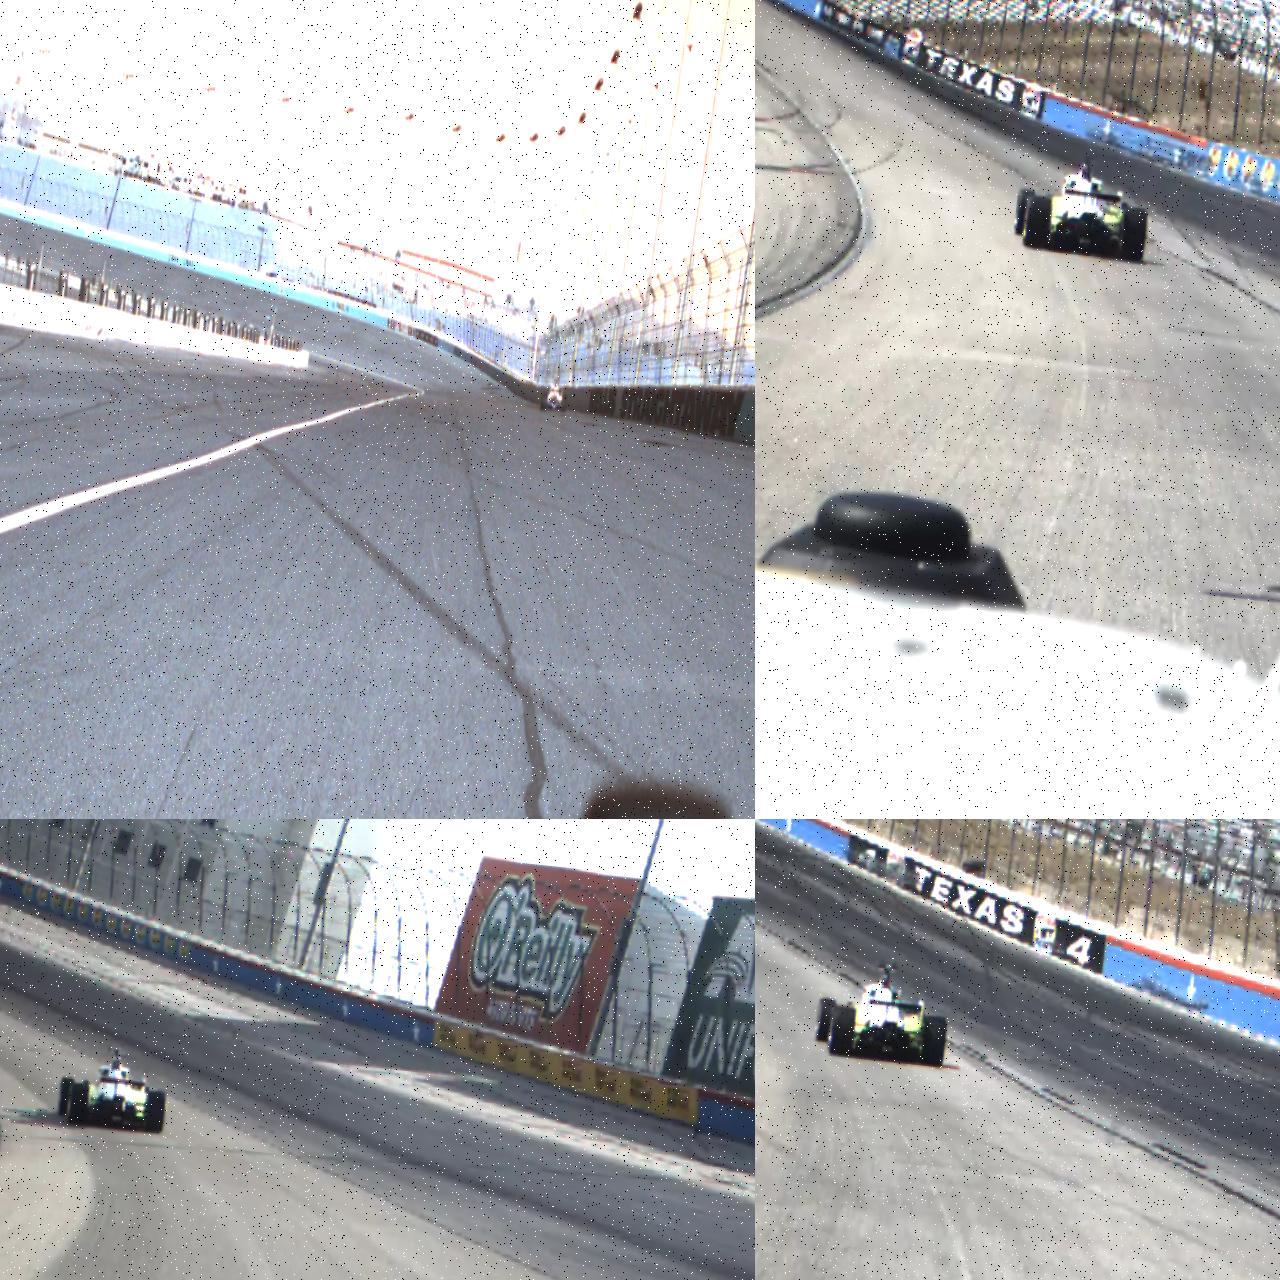AV: (1011, 148, 1154, 264), (813, 956, 954, 1068), (56, 1042, 172, 1136), (540, 378, 570, 413)
Wheel: (1120, 206, 1148, 264), (1022, 196, 1052, 250), (919, 1014, 948, 1068), (827, 1006, 856, 1058), (144, 1088, 168, 1136), (1014, 186, 1036, 238), (66, 1082, 90, 1128), (814, 997, 836, 1044), (56, 1076, 74, 1118), (540, 392, 548, 410), (561, 394, 568, 412)
